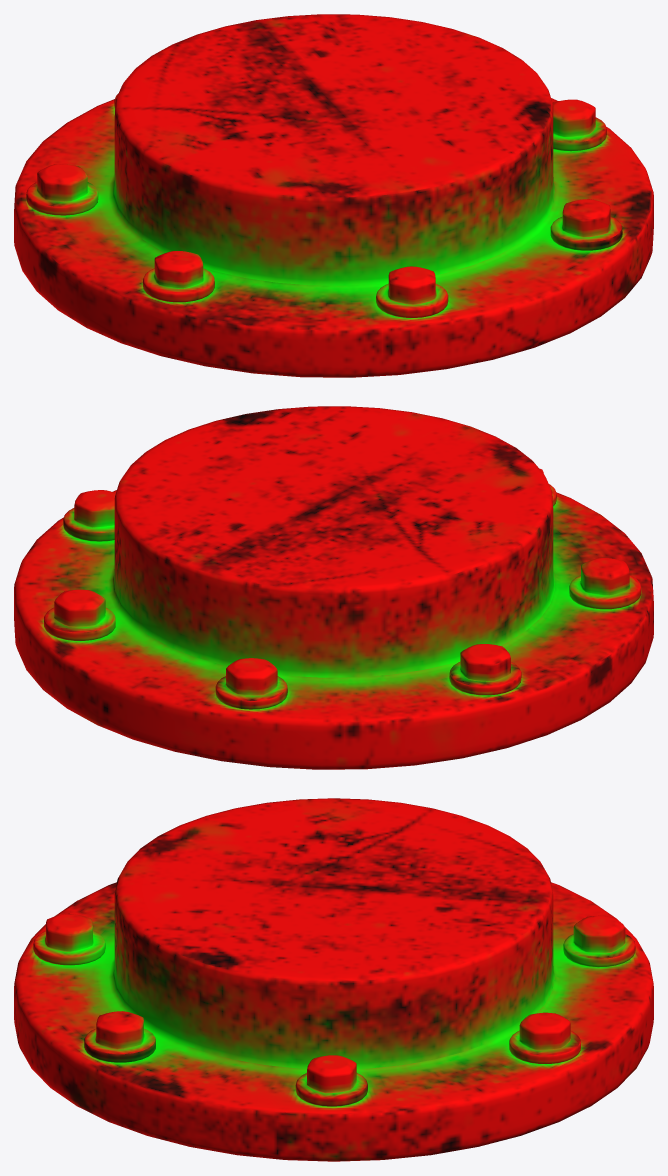
File: SM_IronPipe_connection_01.fbx
3 renders of one model, top to bottom at view 1: azimuth 30°, elevation 25°; view 2: azimuth 150°, elevation 25°; view 3: azimuth 270°, elevation 25°, orthographic.
Visible parts, largest first — view 1: SM_IronPipe_connection_01_LOD0; view 2: SM_IronPipe_connection_01_LOD0; view 3: SM_IronPipe_connection_01_LOD0.
Part boxes in pixels (x1,y1,x2,y2): SM_IronPipe_connection_01_LOD0: (14, 14, 653, 377); SM_IronPipe_connection_01_LOD0: (14, 406, 653, 769); SM_IronPipe_connection_01_LOD0: (14, 798, 653, 1161).
Size of the model in its own units: 24.14 by 24.14 by 5.86.
